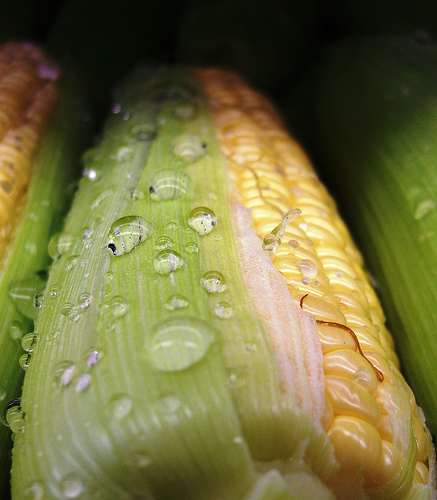corn: (7, 55, 435, 498)
